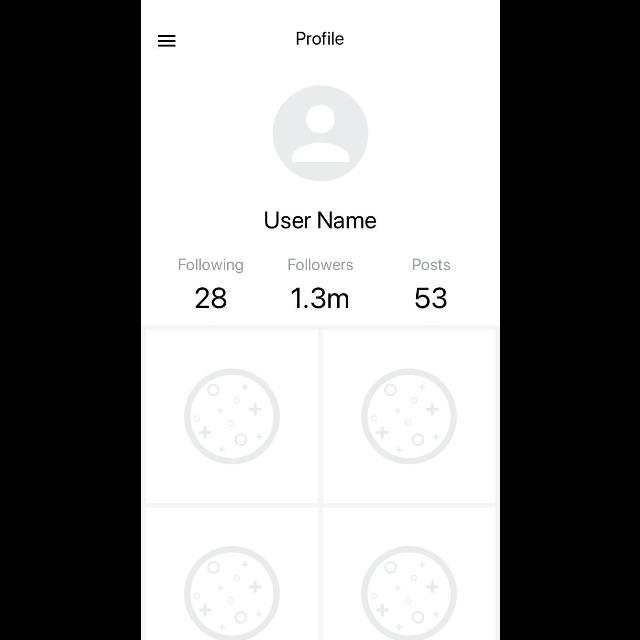icon: (273, 86, 367, 182), (157, 35, 175, 47)
image: (361, 368, 457, 464), (183, 369, 279, 465), (361, 546, 457, 640), (184, 546, 280, 640)
text: (264, 212, 376, 228), (290, 288, 348, 308), (178, 258, 242, 274), (288, 259, 352, 271), (296, 31, 344, 45), (194, 288, 226, 308), (416, 288, 446, 308), (412, 258, 451, 272)
